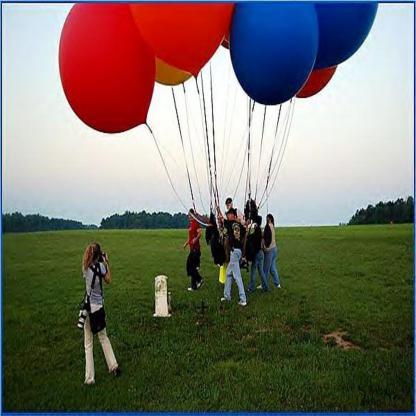face: (227, 202, 232, 211), (229, 213, 234, 221), (190, 213, 194, 221)
